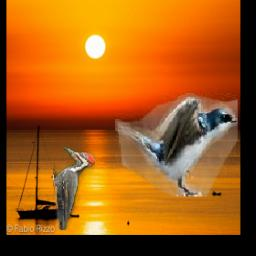Swallow: (115, 93, 238, 197)
Woodpecker: (53, 148, 95, 231)
